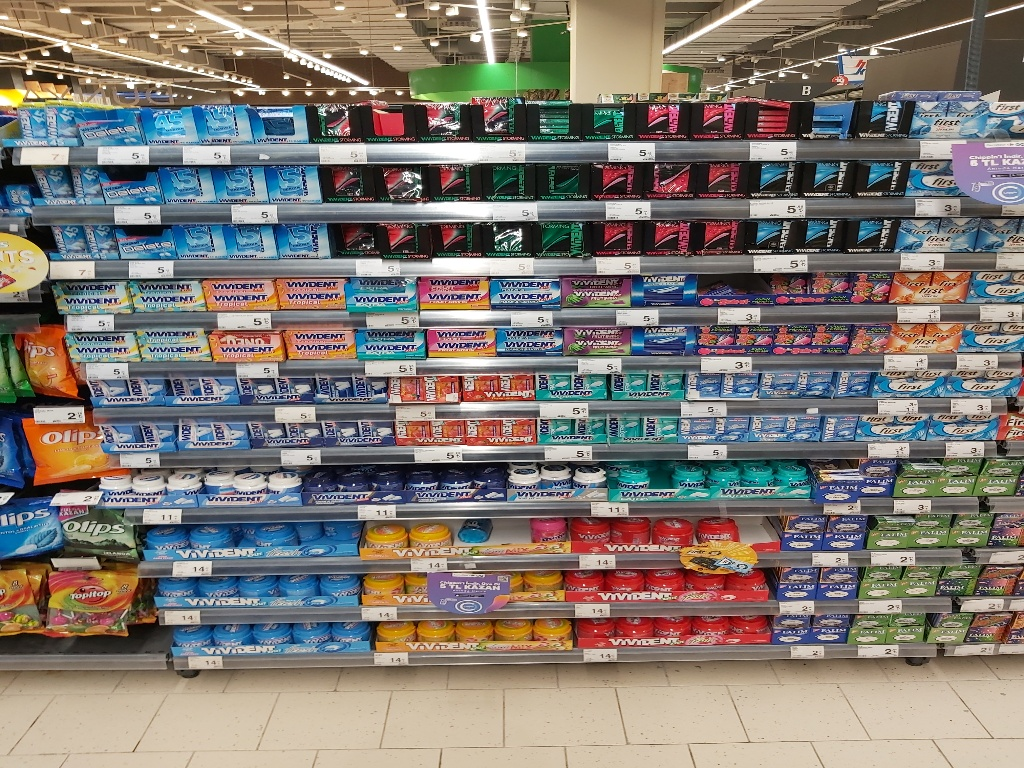urun: (38, 557, 143, 655), (918, 82, 1002, 147), (509, 91, 586, 140), (799, 86, 868, 140), (576, 92, 643, 145), (687, 90, 754, 142), (630, 90, 696, 142), (257, 160, 323, 204), (421, 90, 484, 136), (430, 215, 489, 264), (480, 216, 539, 265), (532, 212, 591, 261), (736, 207, 795, 256), (360, 91, 422, 137), (588, 207, 646, 256), (792, 204, 851, 252), (636, 209, 695, 257), (686, 209, 745, 257), (847, 209, 906, 257), (372, 157, 429, 206), (586, 151, 643, 200), (429, 156, 485, 205), (476, 156, 532, 205), (640, 156, 696, 205), (799, 151, 855, 200), (865, 90, 922, 138), (147, 218, 220, 255), (205, 219, 278, 256), (530, 159, 586, 207), (685, 154, 741, 202), (744, 150, 800, 198), (855, 154, 911, 202), (206, 159, 270, 200), (129, 276, 200, 311), (344, 271, 415, 306), (65, 326, 136, 361), (568, 320, 639, 355), (371, 214, 425, 260), (54, 284, 124, 319), (273, 276, 343, 311), (416, 280, 486, 315), (635, 271, 705, 306), (210, 320, 280, 355), (420, 320, 490, 355), (492, 321, 562, 356), (639, 320, 709, 355), (745, 86, 796, 134), (486, 273, 557, 307), (559, 274, 630, 308), (134, 324, 205, 358), (255, 101, 308, 146), (305, 96, 358, 141), (205, 274, 275, 308), (708, 273, 778, 307), (780, 273, 850, 307), (279, 323, 349, 357), (356, 323, 426, 357), (888, 260, 937, 306), (933, 259, 982, 305), (273, 220, 330, 259), (151, 161, 205, 201), (317, 165, 371, 205), (44, 210, 83, 265), (77, 218, 116, 273), (79, 105, 137, 141), (145, 105, 196, 145), (202, 458, 237, 516), (198, 99, 250, 138), (161, 467, 206, 511), (192, 366, 239, 408), (232, 453, 266, 511), (269, 458, 303, 516), (90, 372, 138, 410), (49, 92, 81, 148), (31, 156, 73, 198), (60, 159, 102, 201), (675, 403, 723, 439), (837, 364, 876, 408), (759, 361, 797, 406), (609, 504, 648, 547), (791, 360, 829, 404), (902, 454, 940, 498), (188, 517, 234, 553), (251, 517, 297, 553), (147, 573, 193, 609), (191, 568, 237, 604), (264, 567, 310, 603), (314, 562, 360, 598), (700, 508, 739, 550), (657, 509, 695, 552), (228, 570, 274, 605), (571, 511, 609, 553), (719, 364, 762, 401), (782, 507, 826, 543), (828, 504, 872, 540), (274, 370, 316, 407), (311, 370, 353, 407), (347, 374, 389, 411), (384, 374, 426, 411), (566, 365, 608, 402), (420, 370, 462, 407), (457, 365, 499, 402), (492, 364, 534, 401), (608, 366, 650, 403), (653, 366, 695, 403), (127, 465, 170, 500), (646, 558, 682, 599), (691, 554, 727, 595), (205, 412, 242, 451), (393, 408, 429, 448), (525, 518, 566, 553), (367, 618, 408, 653), (499, 618, 540, 653), (531, 614, 572, 649), (611, 562, 646, 603), (730, 559, 765, 600), (236, 370, 273, 408), (655, 608, 694, 644), (692, 609, 731, 645), (733, 608, 772, 644), (157, 622, 207, 650), (364, 521, 404, 556), (407, 516, 448, 550), (362, 570, 403, 604), (412, 612, 453, 646), (451, 611, 492, 645), (529, 561, 570, 595), (333, 618, 371, 654), (570, 563, 604, 603), (746, 404, 785, 438), (636, 408, 675, 442), (502, 463, 535, 503), (540, 463, 573, 503), (813, 608, 850, 643), (502, 413, 540, 447), (787, 407, 826, 440), (431, 411, 470, 444), (572, 460, 605, 499), (613, 460, 646, 499), (675, 460, 708, 499), (859, 558, 899, 590), (847, 608, 887, 640), (700, 454, 731, 495), (778, 458, 809, 499), (897, 604, 932, 640), (827, 410, 865, 443), (713, 406, 751, 439), (603, 407, 641, 440), (461, 412, 499, 445), (774, 607, 812, 640), (932, 314, 959, 360), (750, 460, 781, 500), (904, 558, 938, 594), (778, 563, 815, 596), (823, 563, 860, 596), (920, 512, 952, 550), (206, 614, 246, 644), (247, 618, 287, 648), (97, 415, 133, 448), (899, 314, 925, 358), (618, 611, 653, 643), (575, 611, 609, 643), (145, 524, 175, 556), (289, 621, 328, 644), (97, 475, 128, 502)
urun2: (20, 91, 52, 147)
